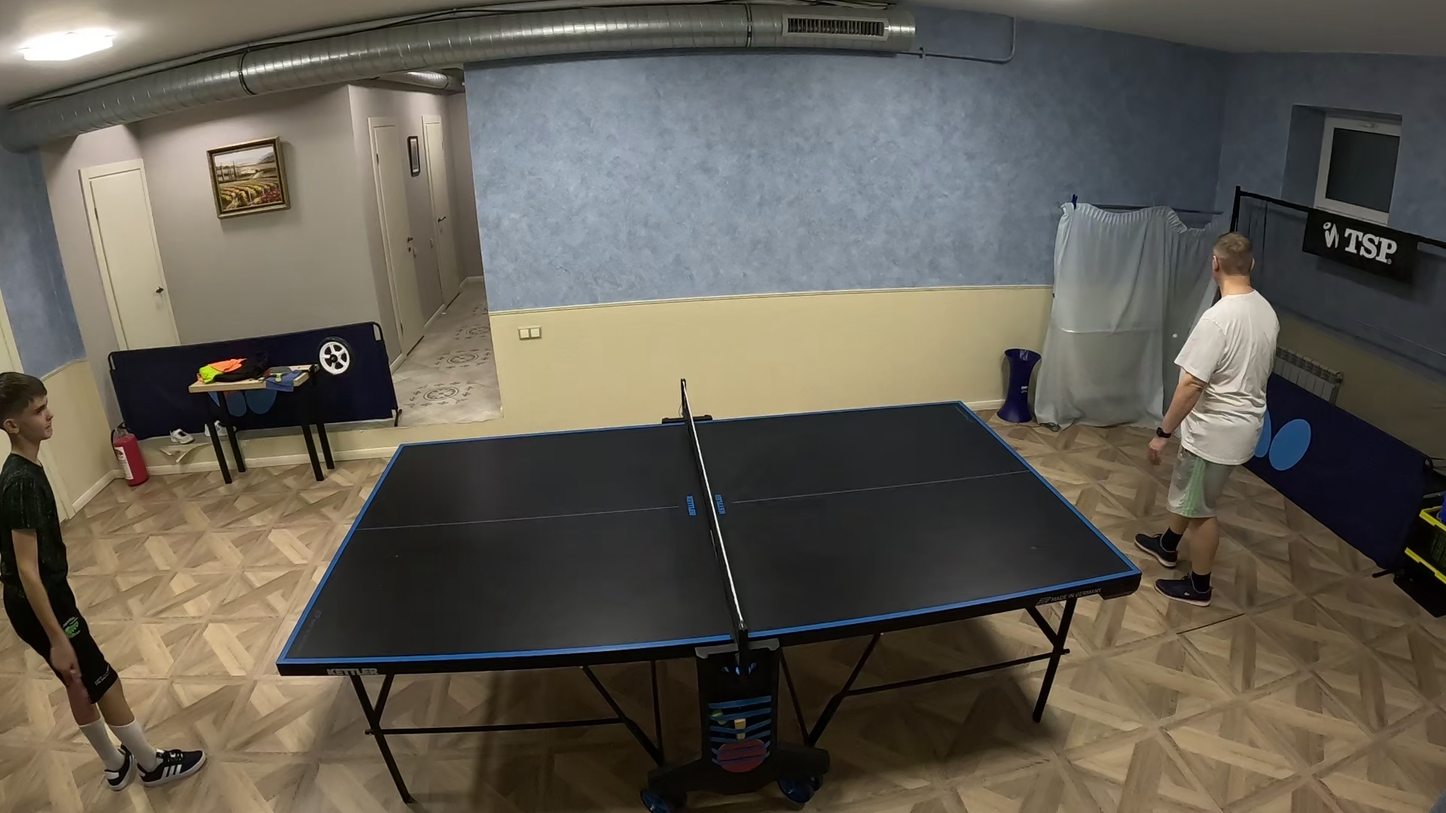Ball: (1173, 333, 1177, 338)
